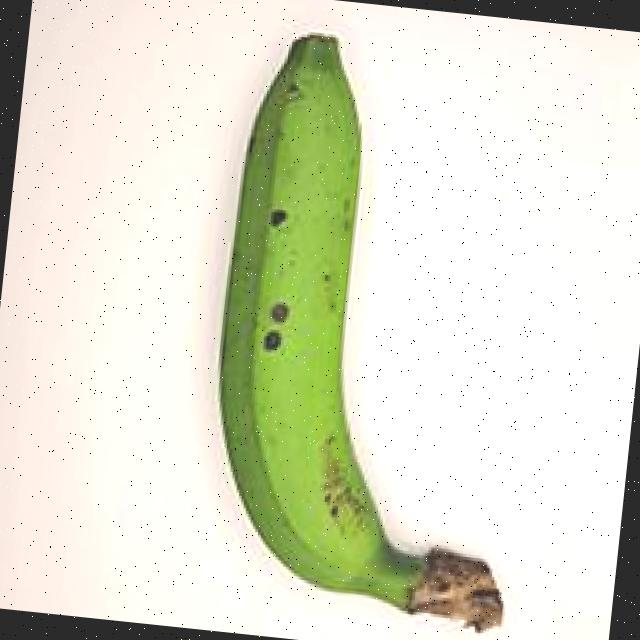Raw: (140, 0, 583, 640)
